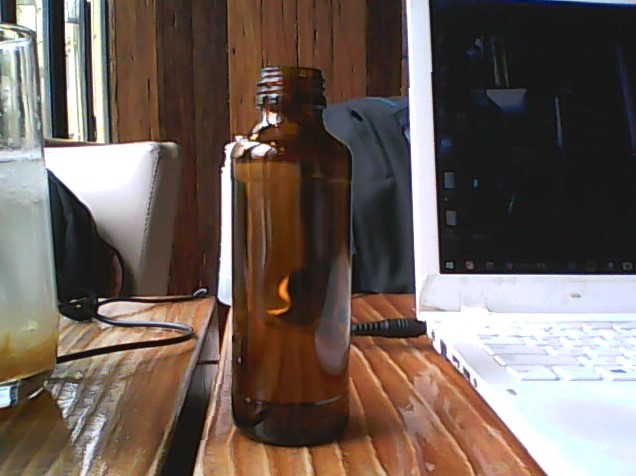Glass: (229, 64, 353, 448)
